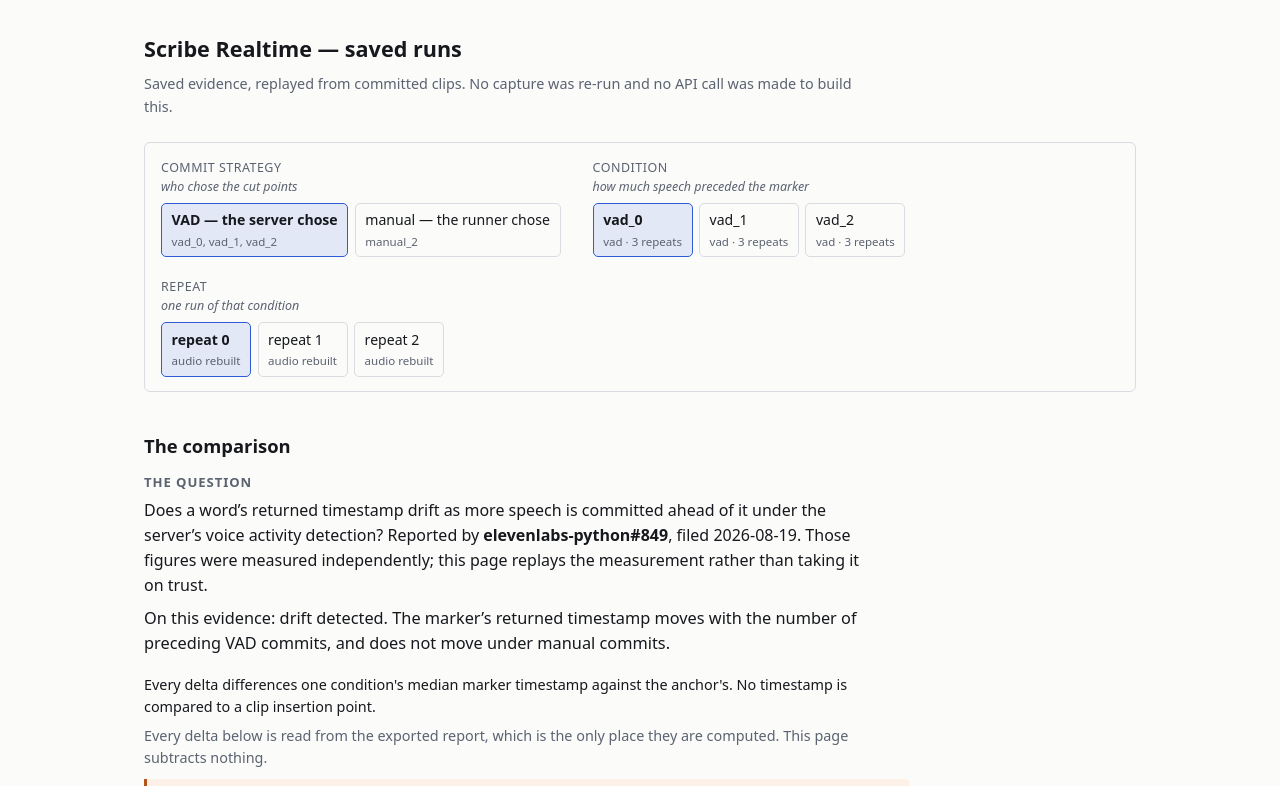
Test: switching between strategies and conditions › switches to a named condition within the strategy
Click the button "vad_2 vad · 3 repeats" at (855, 230), box x1=805 y1=203 x2=905 y2=257
(page scrolled)
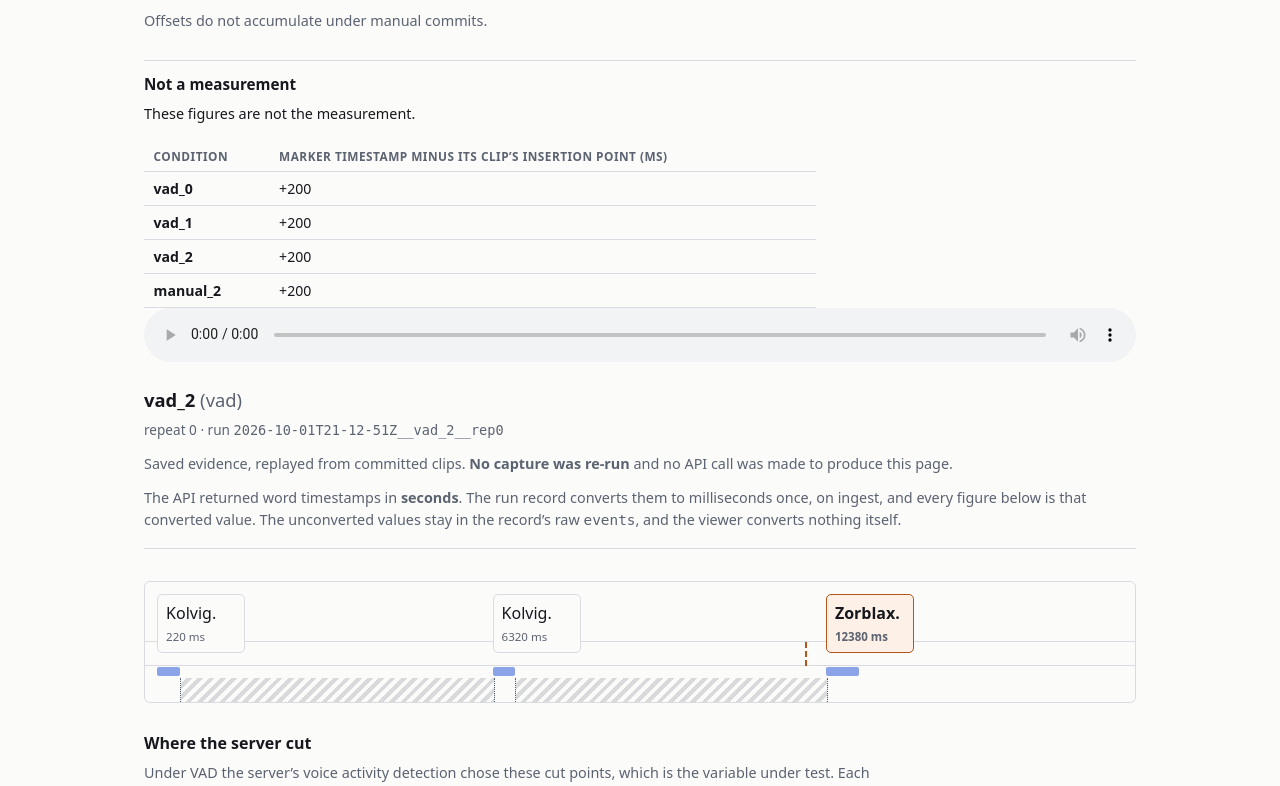
Expected: the heading "vad_2 (vad)" is shown, x1=144 y1=387 x2=242 y2=412
